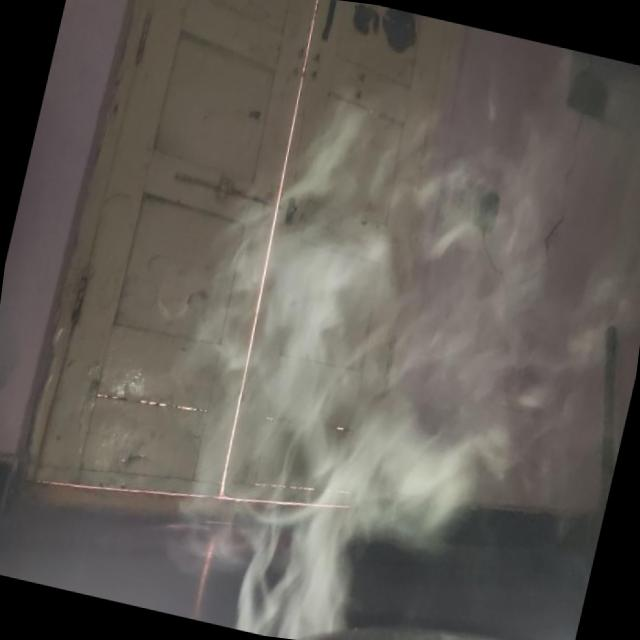smoke: (222, 175, 581, 640)
